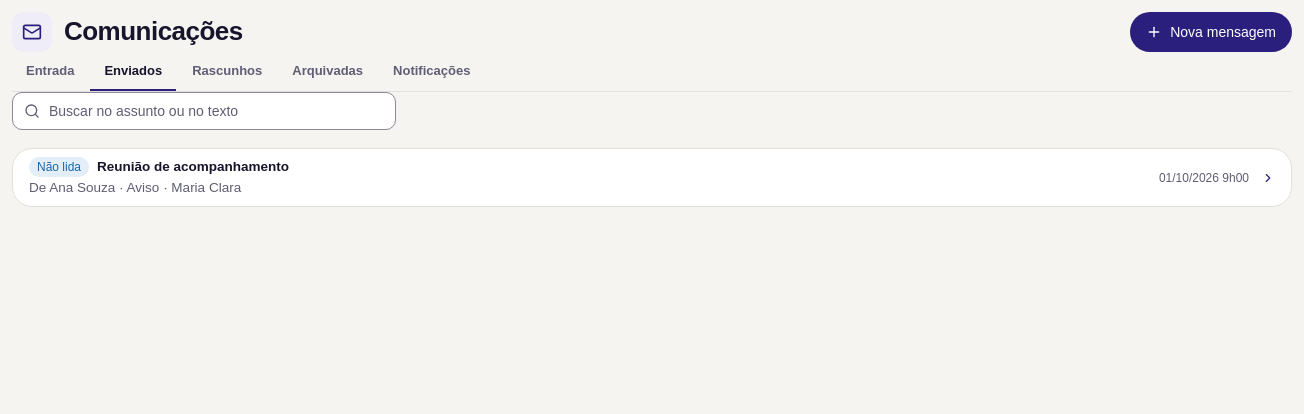
Test: ComunicacoesPage › Abas_seguem_a_url
Expected: the tab "Enviados" is shown, 90,52 -> 176,92
Click the tab "Rascunhos" at coordinates (227, 72), box 178,52 -> 276,92
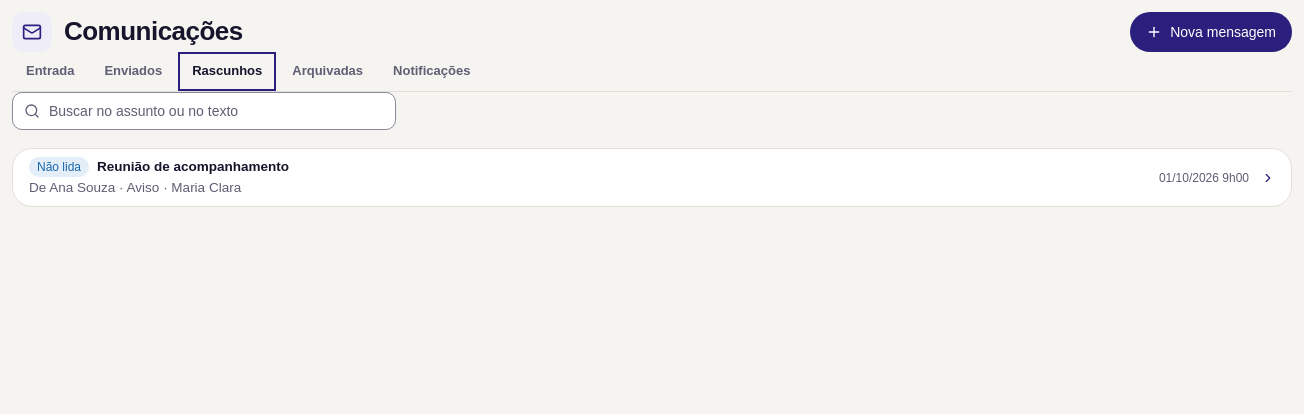
Teclado WAI-ARIA: seta para a direita leva à próxima aba.
Press Arrowright
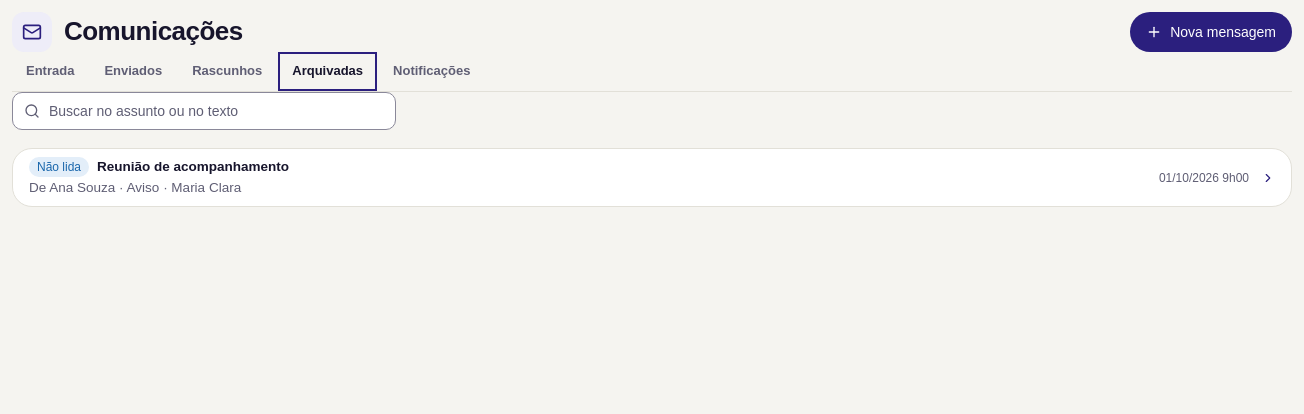
Click the tab "Notificações" at coordinates (432, 72), box 379,52 -> 484,92
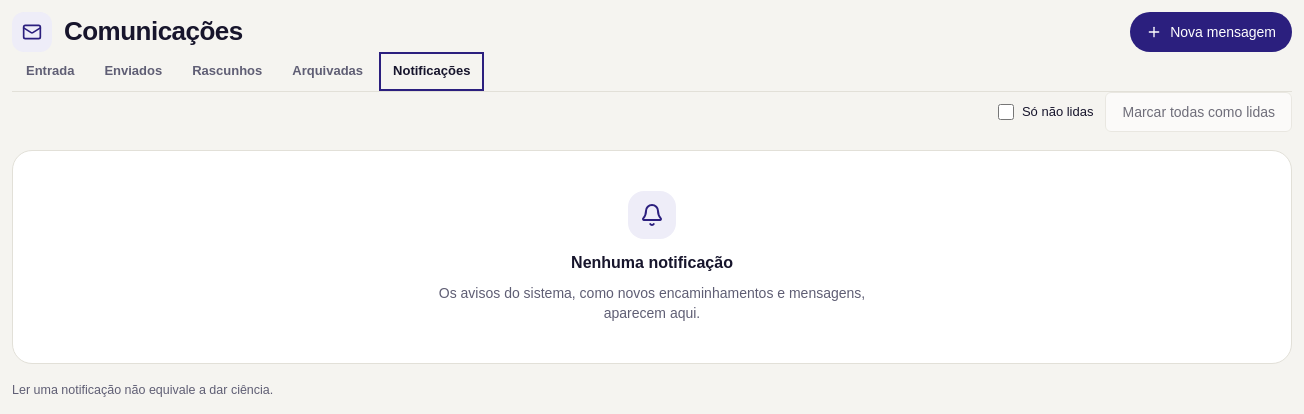
Now the text "Nenhuma notificação" is shown, box 571,251 -> 733,275
